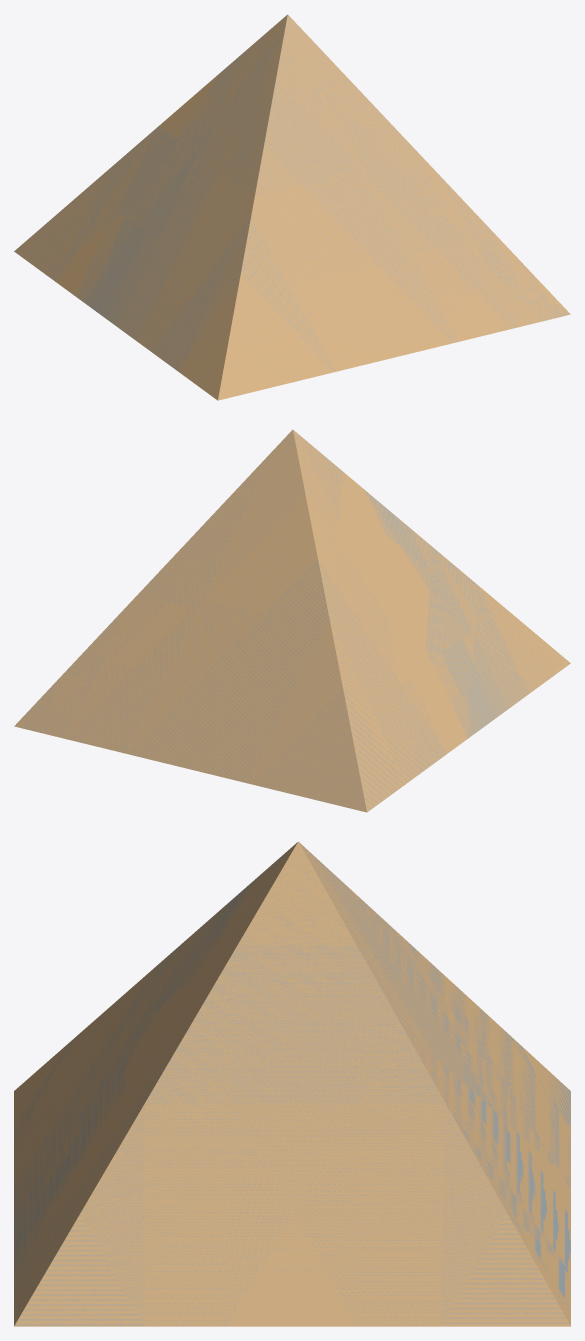
3 views of the same model, one above another, from view 1: azimuth 30°, elevation 25°; view 2: azimuth 150°, elevation 25°; view 3: azimuth 270°, elevation 25° (orthographic). The views are drawn at different scales.
Parts seen in each view (by area): view 1: SketchUp; view 2: SketchUp; view 3: SketchUp.
Part boxes in pixels (x1,y1,x2,y2): SketchUp: [14, 14, 570, 400]; SketchUp: [14, 429, 570, 812]; SketchUp: [14, 841, 570, 1326].
Size of the model in its own units: 36.77 by 36.77 by 26.64.
